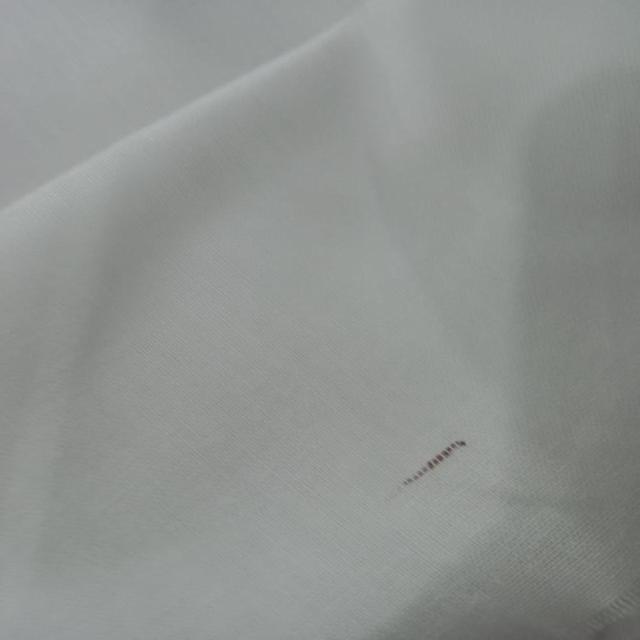contamination: (387, 434, 478, 498)
